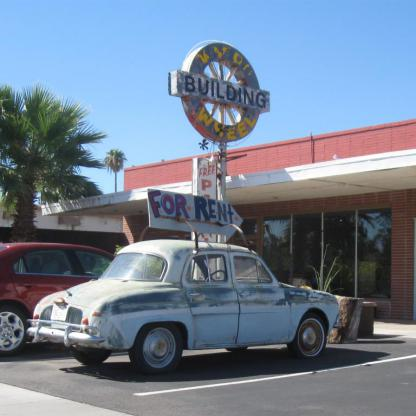Car: (0, 239, 160, 359)
